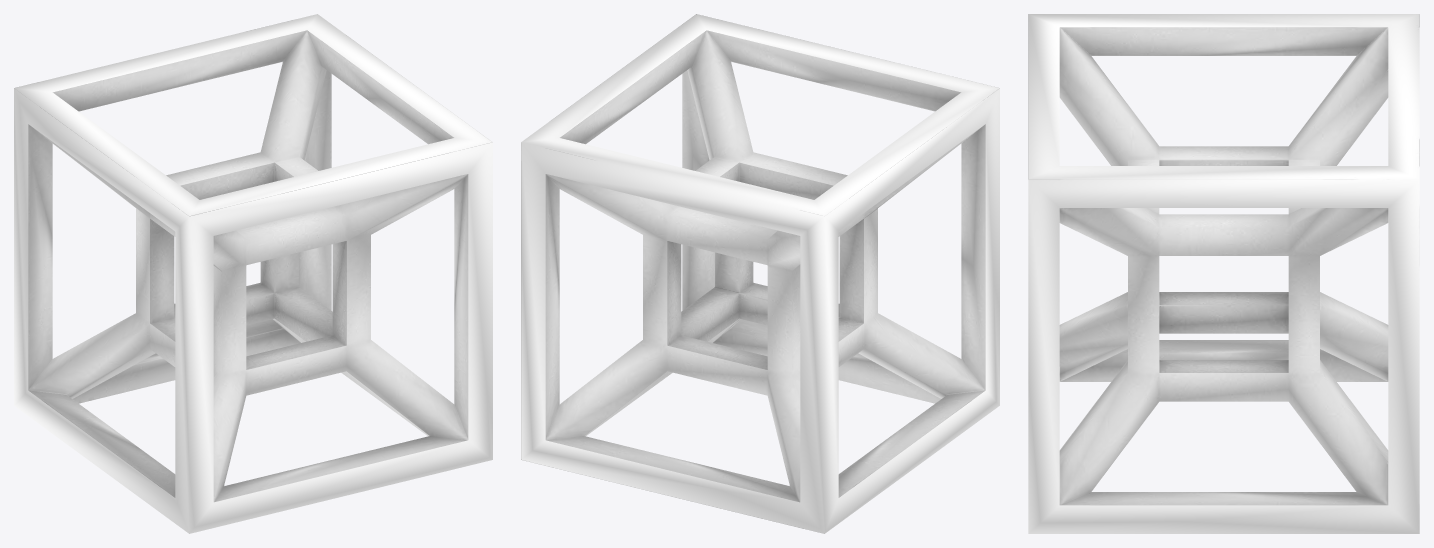
The model's file is tesseract.glb.
3 views of the same model, side by side, from view 1: azimuth 30°, elevation 25°; view 2: azimuth 150°, elevation 25°; view 3: azimuth 270°, elevation 25° (orthographic). The views are drawn at different scales.
Parts seen in each view (by area): view 1: Cube_0; view 2: Cube_0; view 3: Cube_0.
Part boxes in pixels (x1=…): Cube_0: x1=14, y1=14, x2=492, y2=533; Cube_0: x1=521, y1=14, x2=999, y2=533; Cube_0: x1=1028, y1=14, x2=1419, y2=533.
Size of the model in its own units: 2.36 by 2.36 by 2.36.
1 material, 1 textured.
